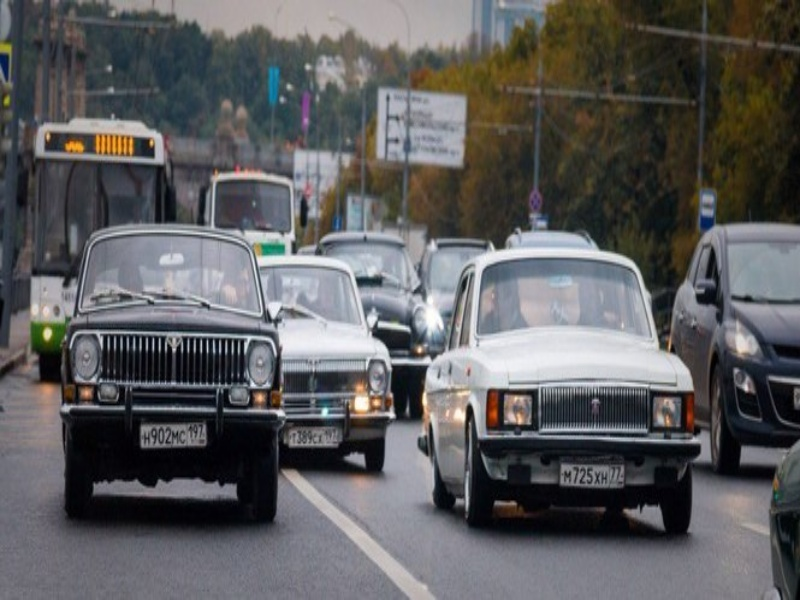car: (421, 248, 693, 537), (57, 224, 283, 521), (30, 116, 176, 382), (667, 222, 800, 472), (256, 254, 393, 478), (316, 232, 447, 418), (198, 168, 297, 254), (416, 237, 495, 316)
plate: (140, 420, 207, 449), (559, 462, 624, 488), (288, 427, 340, 447)
